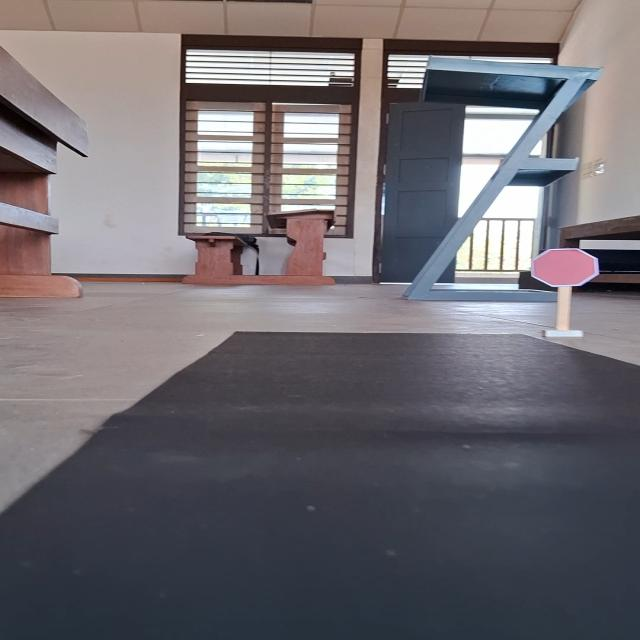Stop: (529, 248, 601, 288)
